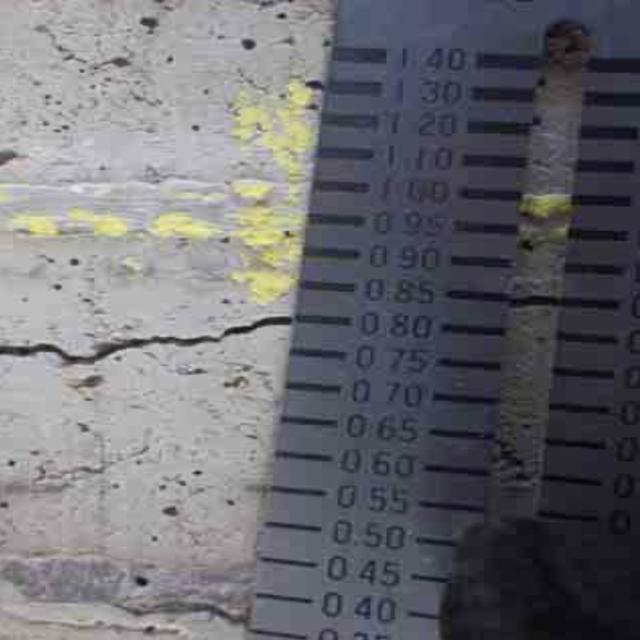crack: (5, 333, 298, 387)
